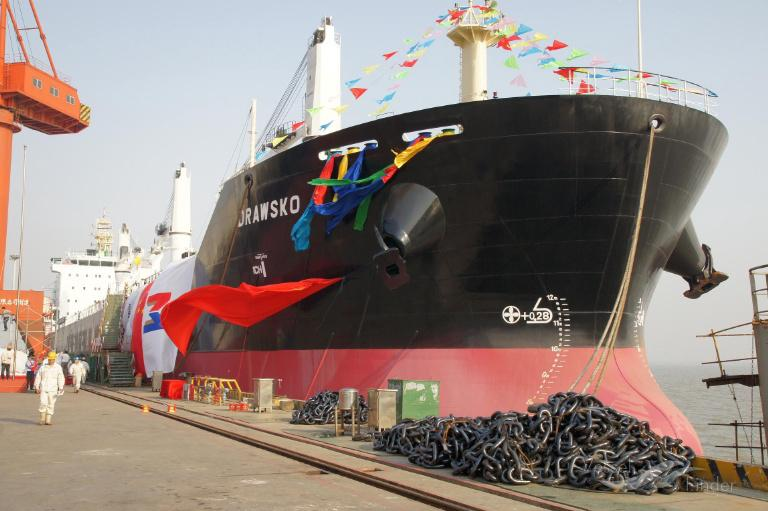OCR: (232, 190, 312, 232)
